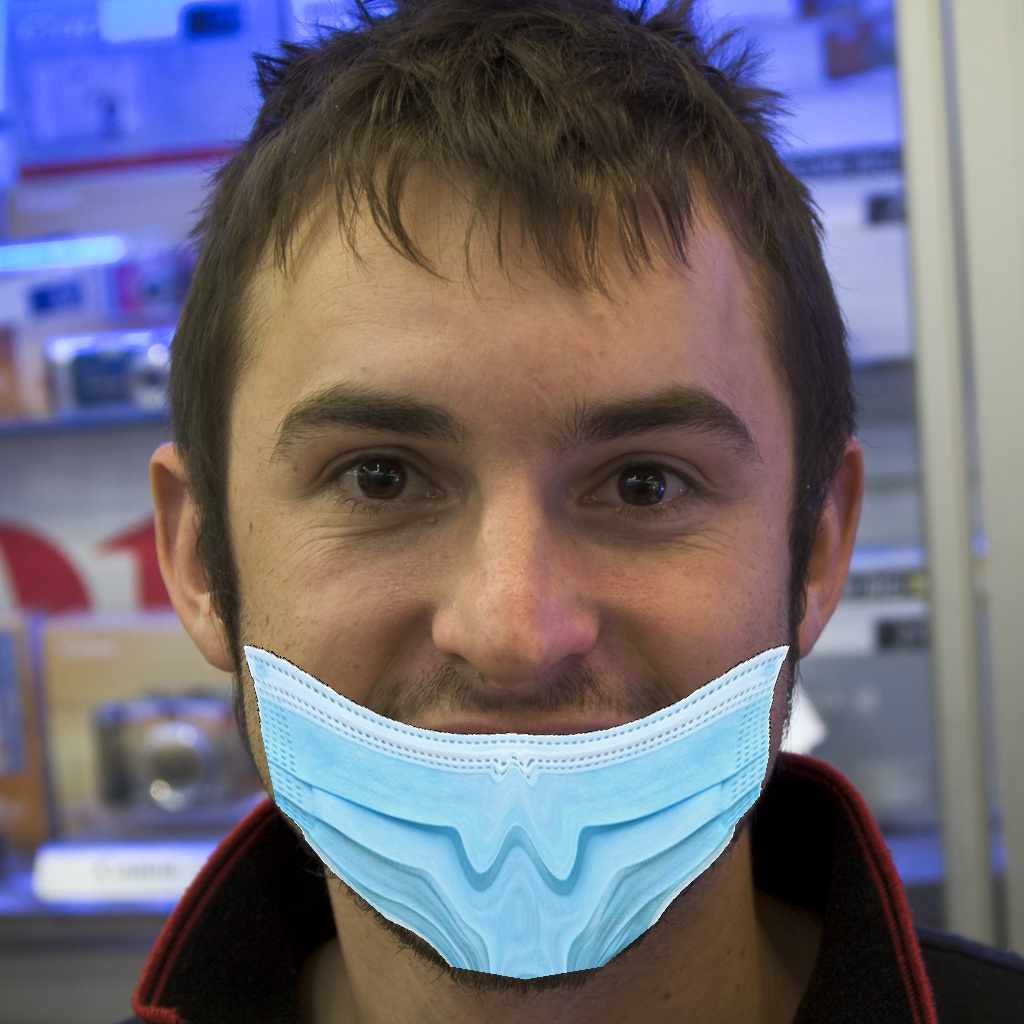mascarilla_mal_puesta: (209, 413, 814, 953)
